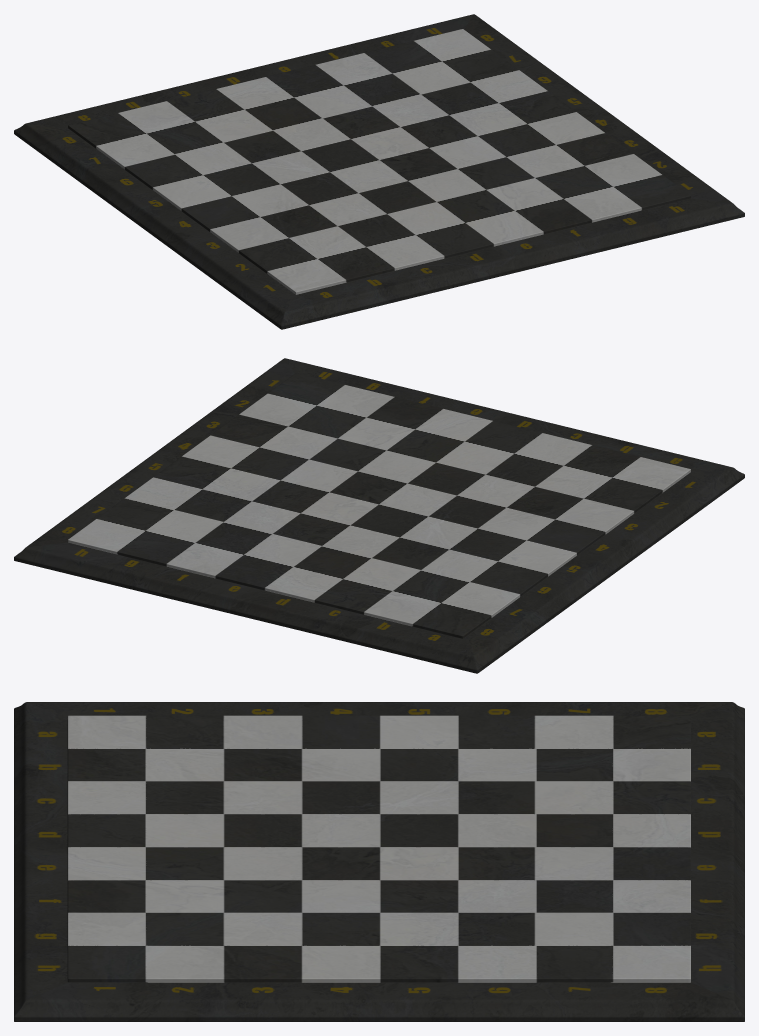
File: stone_chess_board_triangulated.obj
3 renders of one model, top to bottom at view 1: azimuth 30°, elevation 25°; view 2: azimuth 150°, elevation 25°; view 3: azimuth 270°, elevation 25°, orthographic. The views are drawn at different scales.
Parts seen in each view (by area): view 1: 12951_Stone_Chess_Board_v1_L3.001; view 2: 12951_Stone_Chess_Board_v1_L3.001; view 3: 12951_Stone_Chess_Board_v1_L3.001.
Boxes of the visible parts, x1=… form: 12951_Stone_Chess_Board_v1_L3.001: x1=14, y1=14, x2=744, y2=329; 12951_Stone_Chess_Board_v1_L3.001: x1=14, y1=358, x2=744, y2=673; 12951_Stone_Chess_Board_v1_L3.001: x1=14, y1=702, x2=744, y2=1021.
Bounding box in the file's own units: 18.8 × 0.5856 × 18.8.
